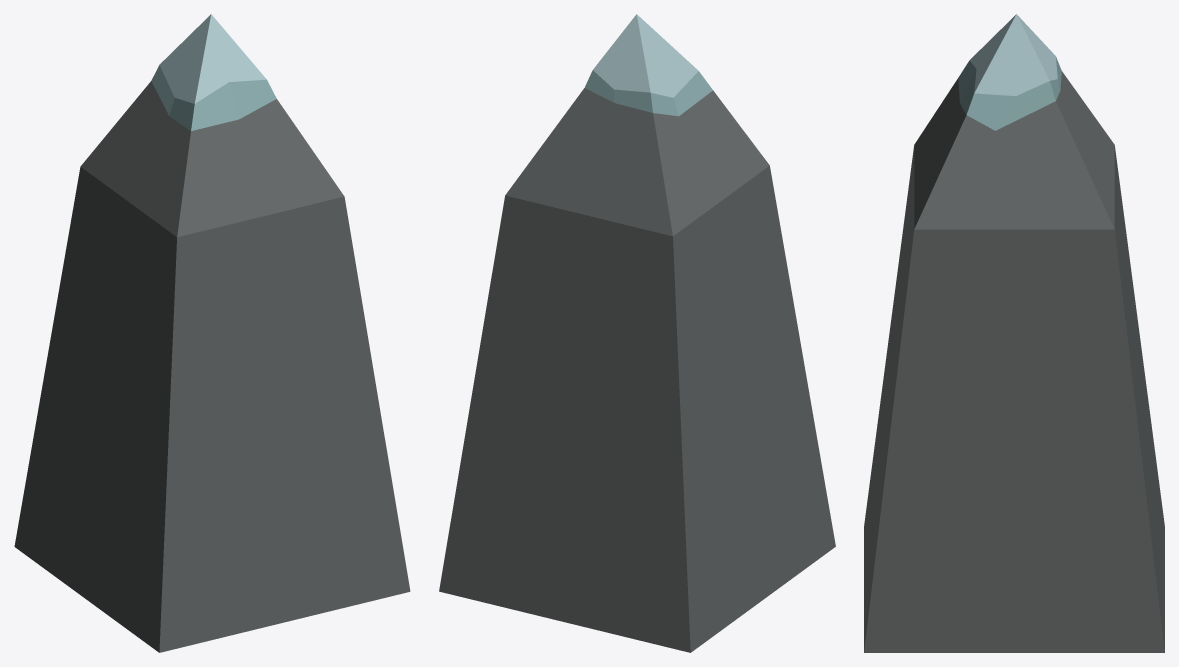
The model's file is MountainTile_1.fbx.
3 views of the same model, side by side, from view 1: azimuth 30°, elevation 25°; view 2: azimuth 150°, elevation 25°; view 3: azimuth 270°, elevation 25° (orthographic). The views are drawn at different scales.
Parts seen in each view (by area): view 1: MountainTile_1; view 2: MountainTile_1; view 3: MountainTile_1.
Part boxes in pixels (left/top/right/bottom): MountainTile_1: left=14, top=14, right=410, bottom=652; MountainTile_1: left=439, top=14, right=835, bottom=652; MountainTile_1: left=864, top=14, right=1164, bottom=652.
Bounding box in the file's own units: 3.15 × 3.15 × 6.65.
